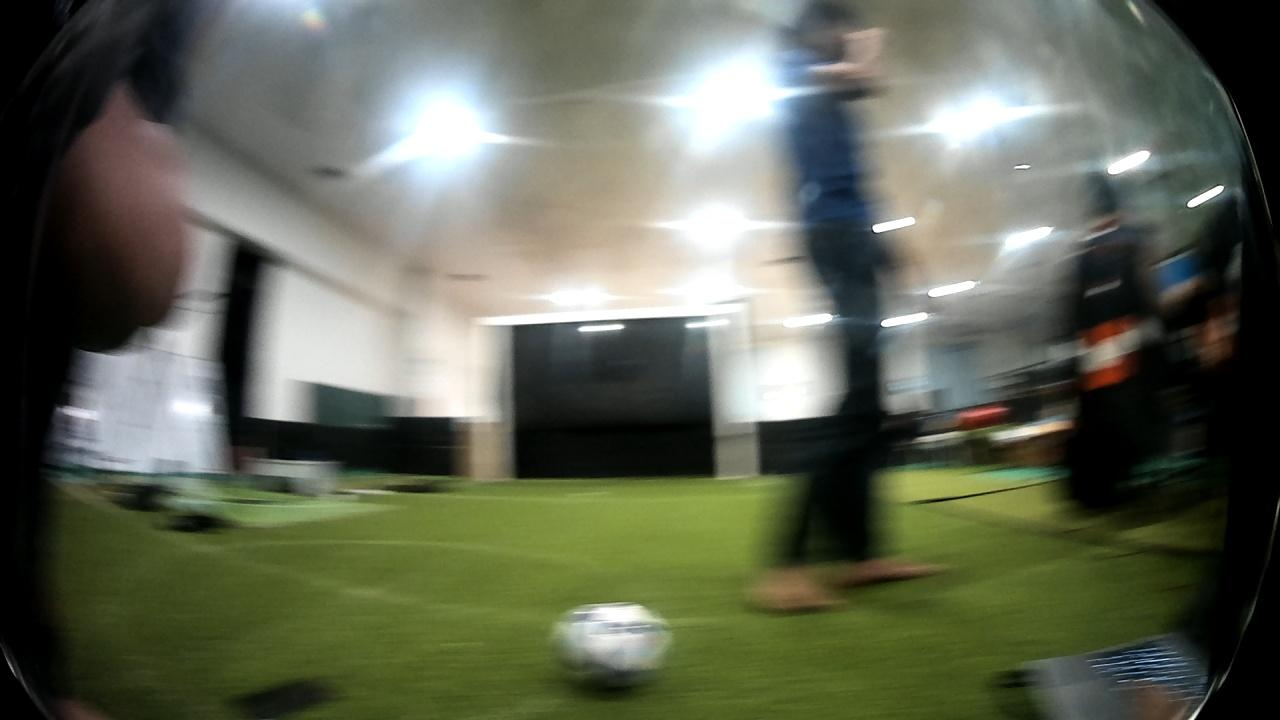ball: (546, 595, 678, 699)
